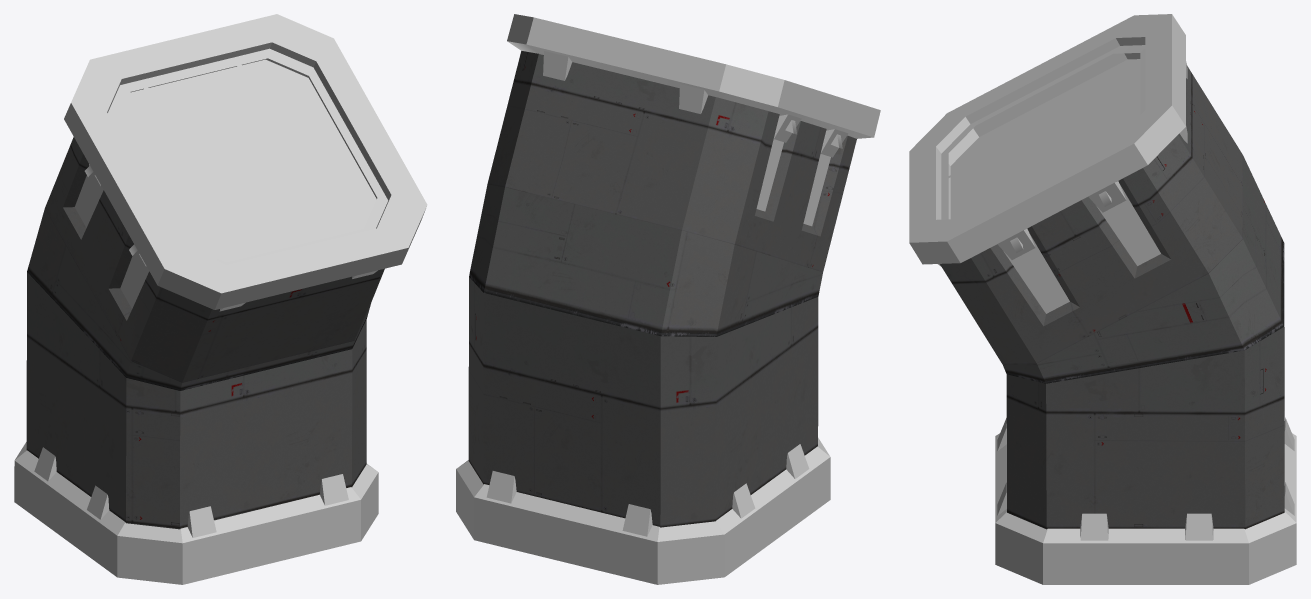
File: Prop_Went_big1_L3.fbx
3 views of the same model, side by side, from view 1: azimuth 30°, elevation 25°; view 2: azimuth 150°, elevation 25°; view 3: azimuth 270°, elevation 25° (orthographic). The views are drawn at different scales.
Visible parts, largest first — view 1: polySurface246; view 2: polySurface246; view 3: polySurface246.
Part boxes in pixels (<box>): polySurface246: <box>14,14,427,584</box>; polySurface246: <box>456,14,880,584</box>; polySurface246: <box>909,14,1296,584</box>.
Size of the model in its own units: 148 by 248 by 189.
